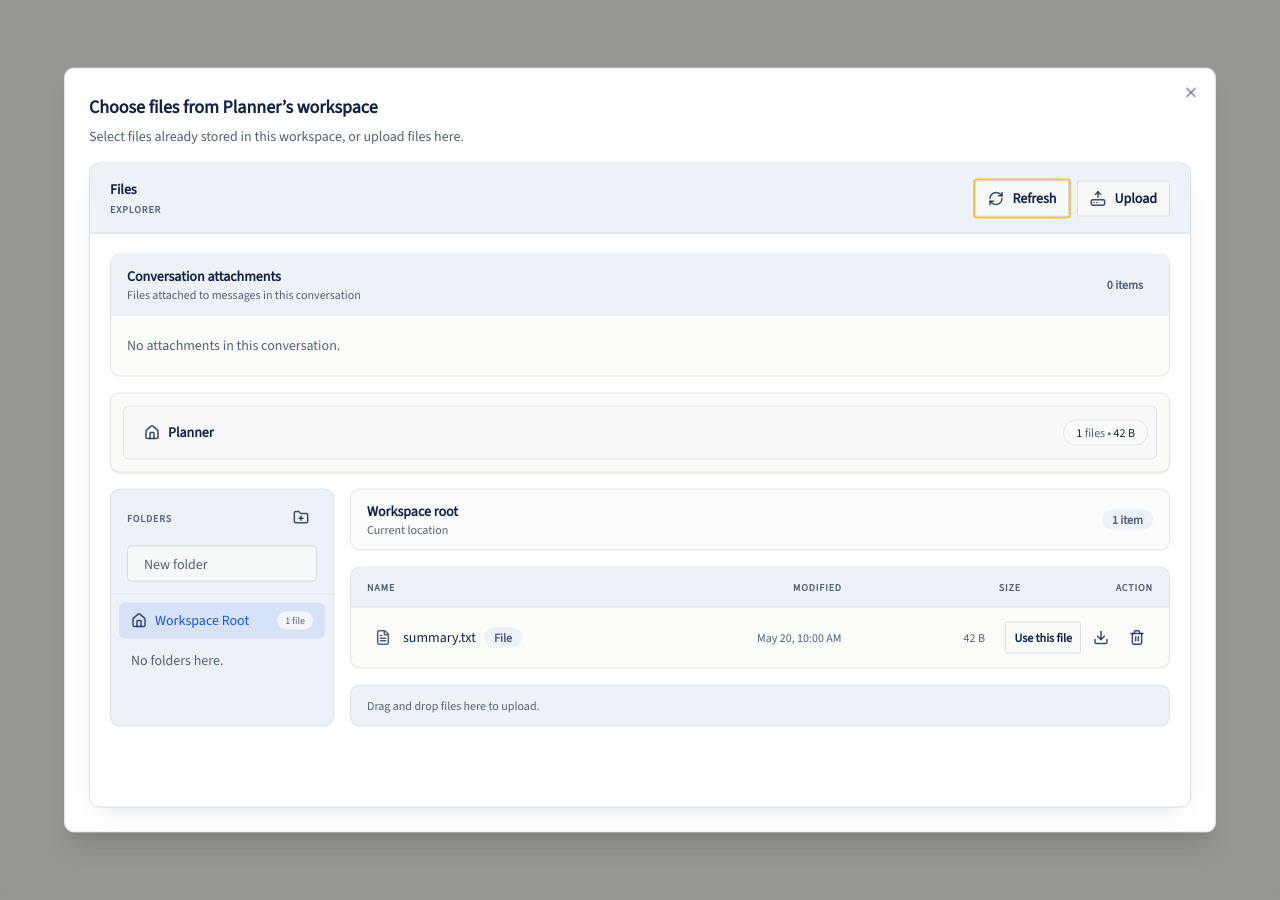
Test case: AgentFilesPanel › lists files in the selected workspace and marks a chosen path as added
The width and height of the screenshot is (1280, 900).
Expected: the heading "Choose files from Planner’s workspace" is shown, x1=89 y1=94 x2=378 y2=118
Click the button with aria-label "Use this file: summary.txt".
click(1043, 638)  # box x1=1006 y1=622 x2=1081 y2=654
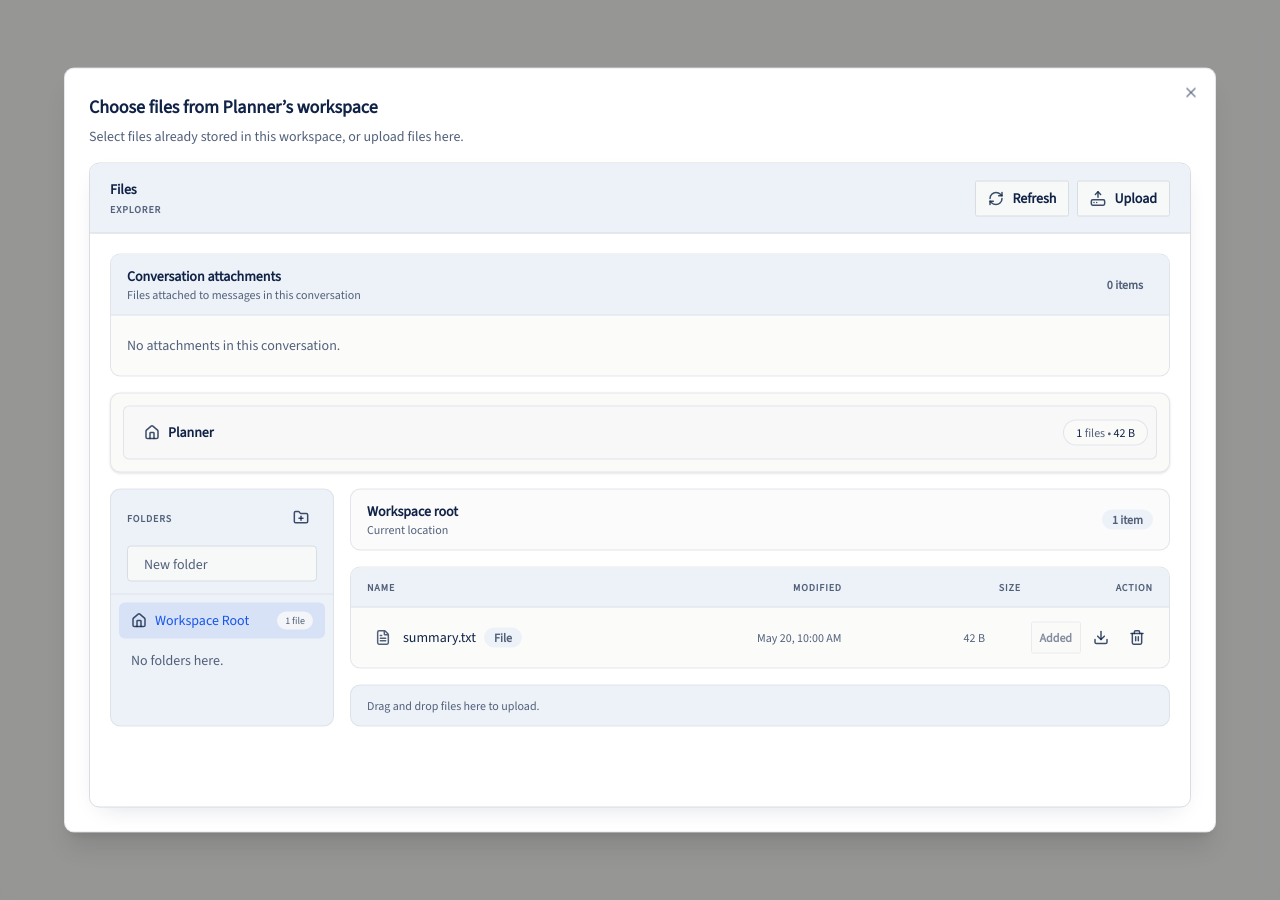
Now the button with aria-label "Added summary.txt" is disabled, box x1=1030 y1=622 x2=1081 y2=654
